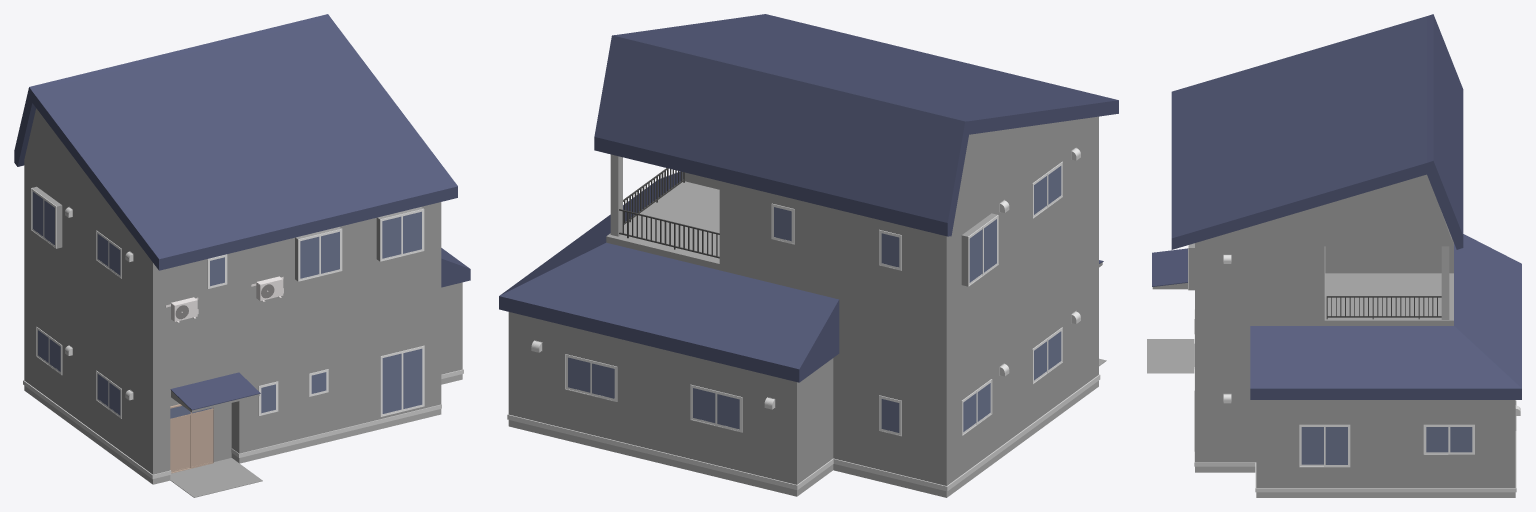
The model's file is MobHouse52.fbx.
The picture shows the model from 3 angles, left to right: view 1: azimuth 30°, elevation 25°; view 2: azimuth 150°, elevation 25°; view 3: azimuth 270°, elevation 25°; orthographic projection. The views are drawn at different scales.
Parts seen in each view (by area): view 1: Flat_half_house02.011; view 2: Flat_half_house02.011; view 3: Flat_half_house02.011.
Boxes of the visible parts, x1,y1,x2,y2 form: Flat_half_house02.011: (14, 14, 470, 497); Flat_half_house02.011: (499, 14, 1118, 497); Flat_half_house02.011: (1147, 14, 1521, 497).
Size of the model in its own units: 10.37 by 8.81 by 9.52.
